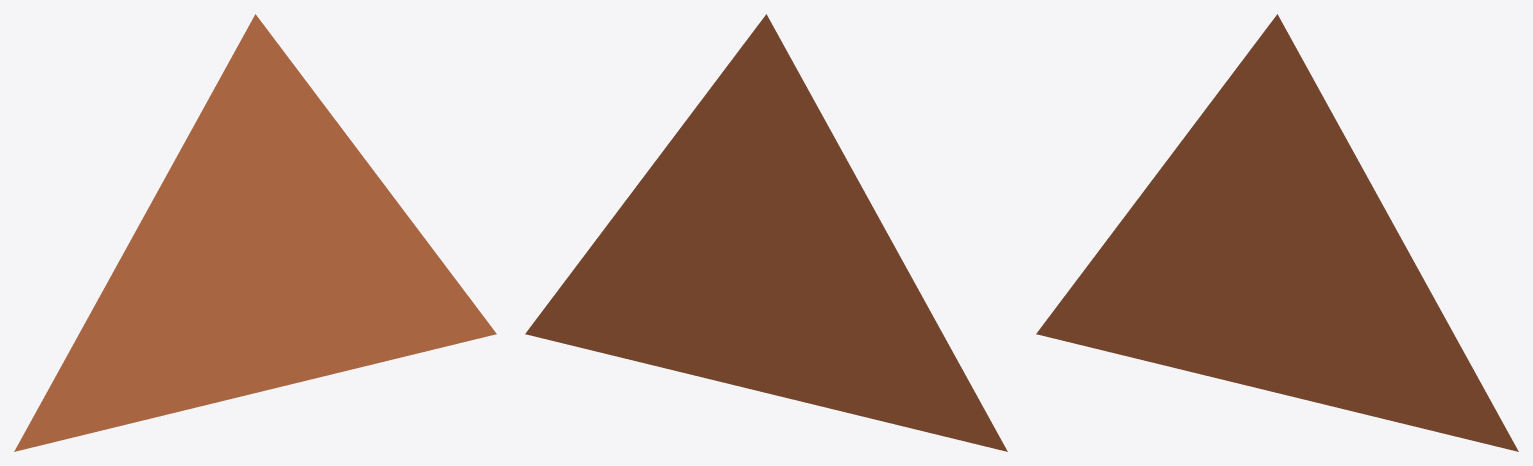
The model's file is inspection-triangle.gltf.
3 renders of one model, left to right at view 1: azimuth 30°, elevation 25°; view 2: azimuth 150°, elevation 25°; view 3: azimuth 330°, elevation 25°, orthographic.
Parts seen in each view (by area): view 1: Inspection triangle; view 2: Inspection triangle; view 3: Inspection triangle.
Boxes of the visible parts, x1,y1,x2,y2 form: Inspection triangle: (14,14,496,451); Inspection triangle: (525,14,1007,451); Inspection triangle: (1036,14,1518,451).
Bounding box in the file's own units: 2 × 1.5 × 0.
